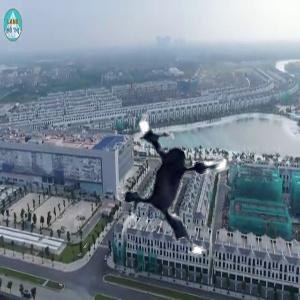drone: (97, 96, 270, 269)
